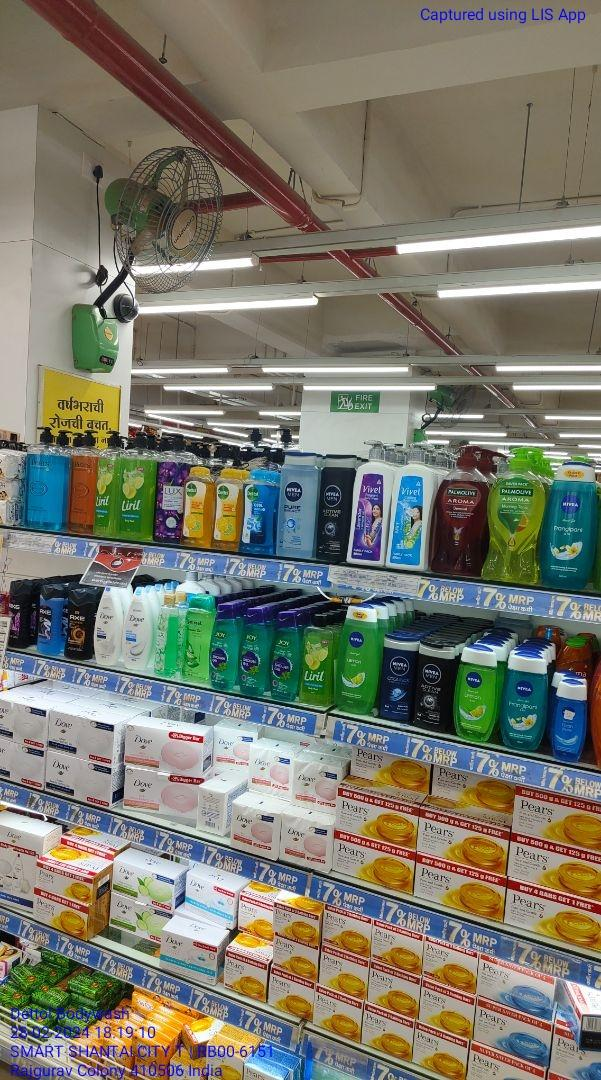Dettol_Bodywash_Cool: (243, 469, 272, 558)
Dettol_Bodywash_Refresh: (182, 465, 210, 546), (215, 467, 239, 553)
Nivea_Shower_Gel_Frangipani_and_Oil_250ML: (542, 454, 593, 590), (505, 653, 546, 747)
Nivea_Shower_Gel_Lemon_and_Oil_250ML: (338, 605, 375, 714), (456, 648, 493, 744)
